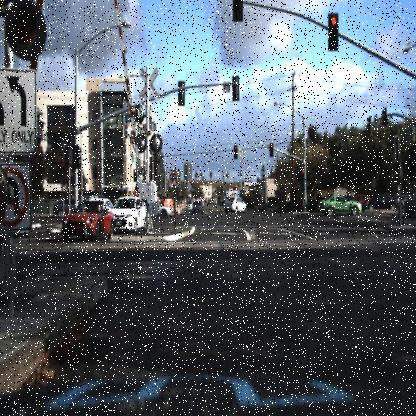car: (60, 198, 116, 240), (108, 192, 148, 236), (315, 192, 363, 219), (73, 198, 102, 232), (362, 191, 404, 214), (344, 192, 374, 215), (221, 193, 247, 217), (148, 199, 173, 223), (188, 194, 206, 216)
trafficLight: (9, 1, 44, 56), (232, 1, 244, 24)
trafficLight-Red: (327, 12, 339, 51), (268, 138, 276, 160), (300, 164, 306, 185), (232, 141, 238, 161), (270, 140, 274, 156)
